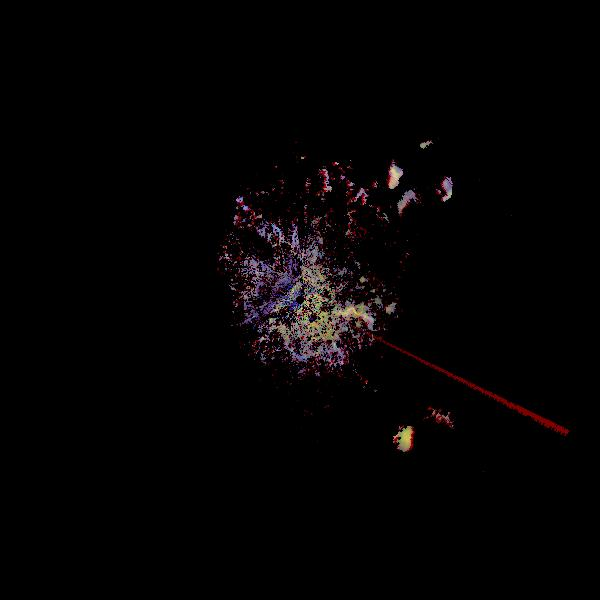roost: (311, 297, 386, 372), (394, 403, 469, 478)
